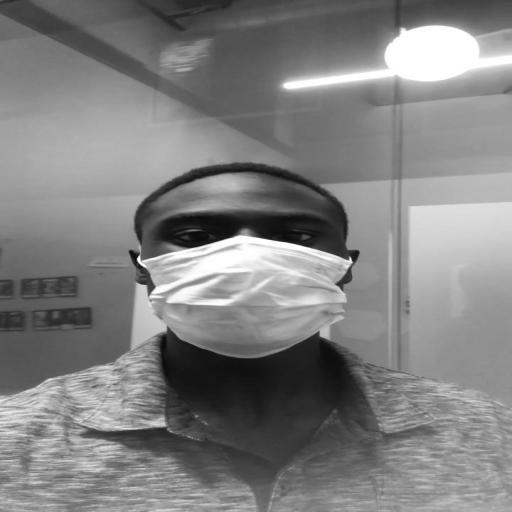mask: (134, 170, 353, 356)
